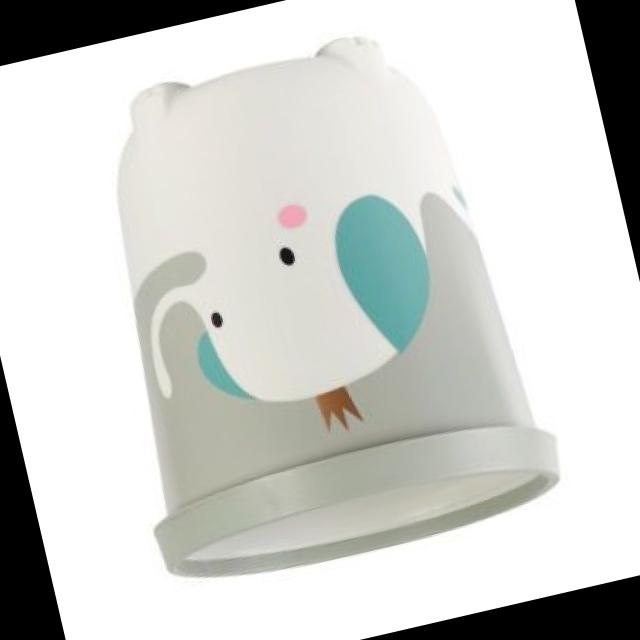dustbin: (48, 0, 571, 603)
